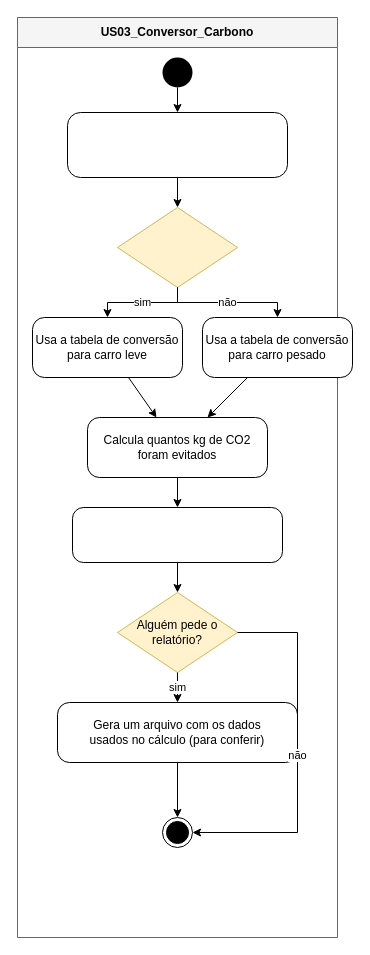
Some shapes in this 370 by 955 pixel diagram are drawn without their labels. The shapes that lost their labels are listed below. From the top down, each one's centre as x and y in pixels, then its label:
the point at 177,145: O sistema recebe quanto combustível foi economizado (por carro ou por passagem)
the point at 177,247: É carro leve flex?
the point at 177,534: Atualiza a tela com o total em kg de CO2
